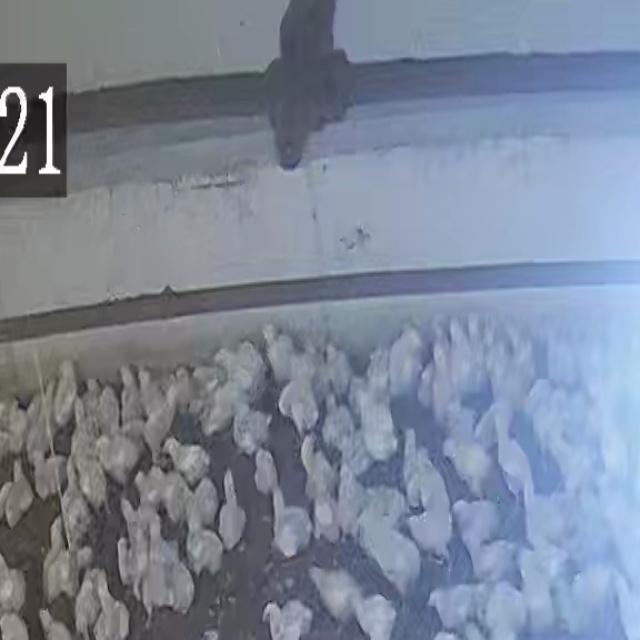chicken: (179, 503, 224, 580), (141, 518, 175, 618), (225, 391, 273, 457), (311, 560, 361, 623), (416, 445, 454, 525), (270, 487, 312, 559), (90, 567, 130, 640), (60, 451, 88, 543), (350, 585, 395, 640), (114, 360, 147, 433), (163, 435, 212, 482), (257, 600, 313, 640), (43, 516, 68, 602), (222, 467, 247, 550), (5, 456, 34, 526), (403, 426, 425, 509), (54, 357, 79, 426), (255, 441, 277, 498)
